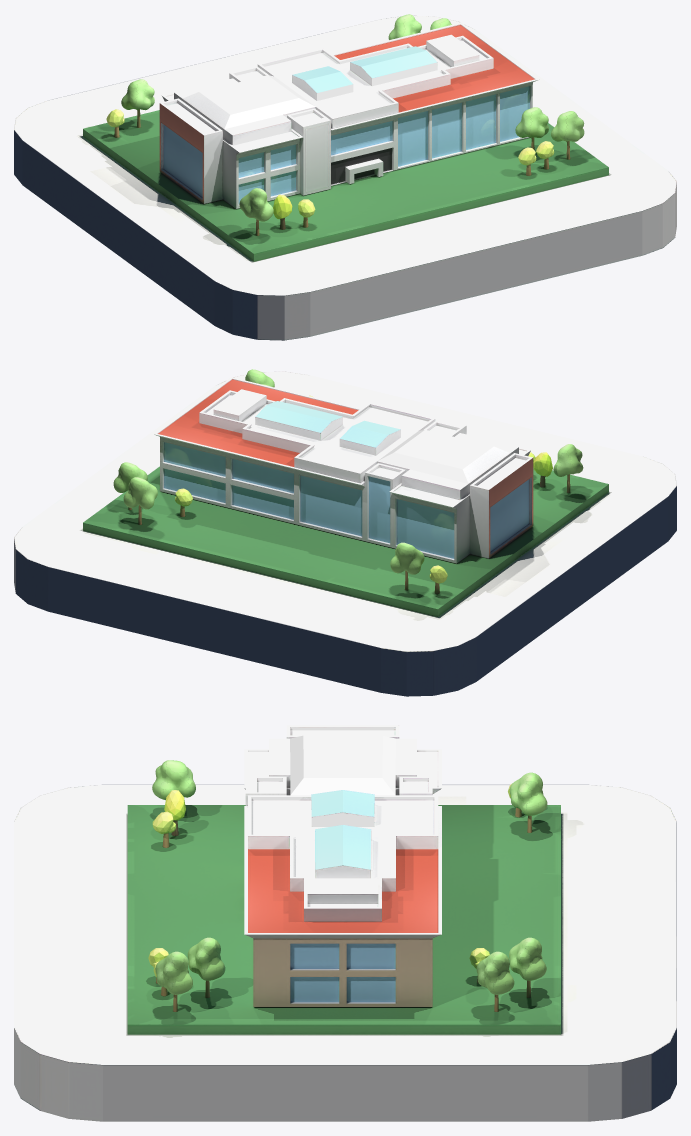
The picture shows the model from 3 angles, top to bottom: view 1: azimuth 30°, elevation 25°; view 2: azimuth 150°, elevation 25°; view 3: azimuth 270°, elevation 25°; orthographic projection. The views are drawn at different scales.
Visible parts, largest first — view 1: Cube, 圖書1, 底板.007, Cylinder.001; view 2: Cube, 圖書1, 底板.007, Cylinder.001; view 3: Cube, 底板.007, 圖書1, Cylinder.001.
Boxes of the visible parts, x1=… form: Cube: x1=14, y1=15, x2=676, y2=340; 圖書1: x1=159, y1=22, x2=539, y2=208; 底板.007: x1=83, y1=110, x2=608, y2=261; Cylinder.001: x1=106, y1=14, x2=584, y2=235; Cube: x1=14, y1=371, x2=676, y2=696; 圖書1: x1=153, y1=377, x2=533, y2=563; 底板.007: x1=83, y1=466, x2=608, y2=616; Cylinder.001: x1=113, y1=369, x2=583, y2=593; Cube: x1=14, y1=784, x2=676, y2=1121; 底板.007: x1=127, y1=805, x2=560, y2=1034; 圖書1: x1=244, y1=725, x2=441, y2=1006; Cylinder.001: x1=148, y1=760, x2=547, y2=1011.
Bounding box in the file's own units: 18 × 4.97 × 18.
14 materials, 14 textured.
